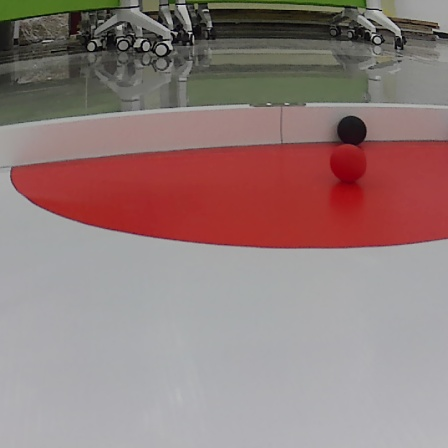black: (336, 111, 374, 140)
red: (326, 141, 372, 179)
red_aim: (12, 125, 448, 249)
